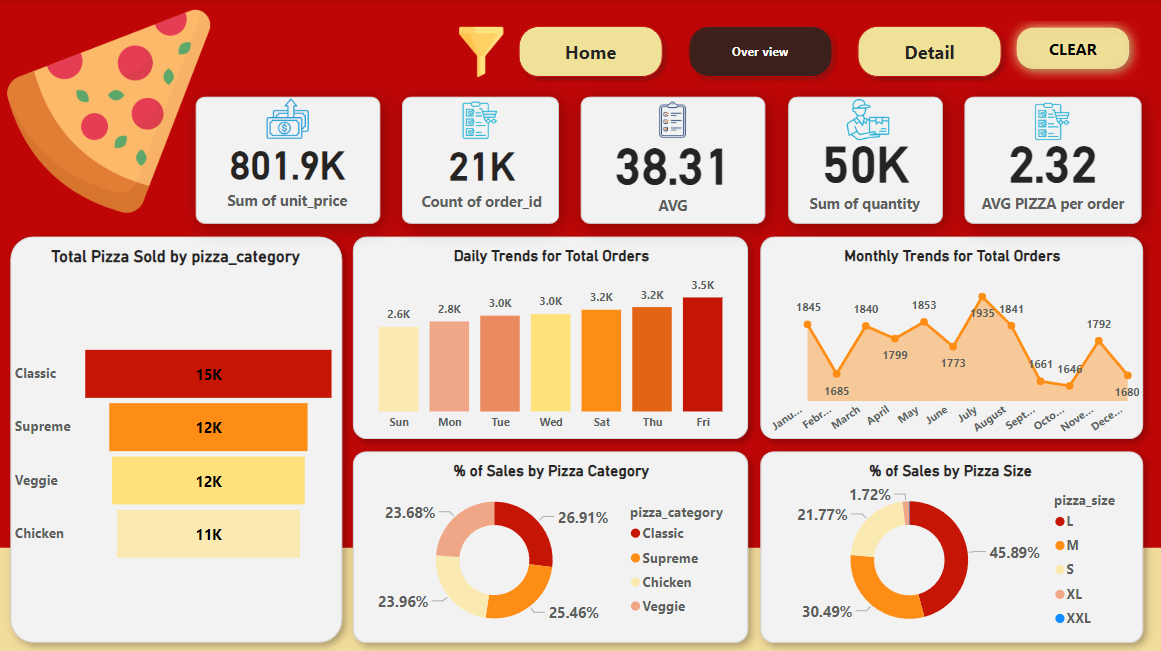

What the dashboard file says about the page in this screenshot:
{"tool":"powerbi","page":{"name":"Over view","canvas":[1280,720],"ordinal":1},"visuals":[{"type":"shape","box":[192.1,82.3,252.5,189.4],"z":0,"group":"g2"},{"type":"shape","box":[418.5,82.3,222.3,189.4],"z":0,"group":"g1"},{"type":"shape","box":[614.7,82.3,252.5,189.4],"z":0,"group":"g8"},{"type":"shape","box":[1036,82.3,244.3,189.4],"z":0,"group":"g9"},{"type":"shape","box":[0,189.4,1280.3,531],"z":0},{"type":"shape","box":[0,246.8,391.5,473.2],"z":0,"group":"g3"},{"type":"shape","box":[376,247,461.1,249.7],"z":0,"group":"g4"},{"type":"shape","box":[823.3,247,447.3,249.7],"z":0,"group":"g5"},{"type":"shape","box":[376,483,461.1,237.4],"z":0,"group":"g6"},{"type":"shape","box":[823.3,483,447.3,237.4],"z":0,"group":"g7"},{"type":"shape","box":[0,0,1280.3,602.4],"z":1000},{"type":"pageNavigator","box":[563,20,549.8,74.9],"z":1000,"group":"g2"},{"type":"image","box":[715.3,102.7,51.4,58.7],"z":1000,"group":"g8"},{"type":"image","box":[502.6,106.3,53.8,52.6],"z":1000,"group":"g1"},{"type":"image","box":[1131.1,108.8,53.8,52.6],"z":1000,"group":"g9"},{"type":"funnel","title":"Total Pizza Sold by pizza_category","fields":{"Category":["pizza_sales.pizza_category"],"Y":["Sum(pizza_sales.quantity)"]},"box":[13.7,271.5,362.6,433.4],"z":1000,"group":"g3"},{"type":"columnChart","title":"Daily Trends for Total Orders","fields":{"Category":["pizza_sales.Order_day"],"Y":["Count(pizza_sales.order_id)"]},"box":[391.6,271.7,432.8,211.3],"z":1000,"group":"g4"},{"type":"lineChart","title":"Monthly Trends for Total Orders","fields":{"Category":["pizza_sales.order_date.Variation.Date Hierarchy.Month"],"Y":["Count(pizza_sales.order_id)"]},"box":[837,271.7,421.3,216.8],"z":1000,"group":"g5"},{"type":"donutChart","title":"% of Sales by Pizza Category","fields":{"Category":["pizza_sales.pizza_category"],"Y":["Sum(pizza_sales.total_price)"]},"box":[391.6,507.7,432.8,197.6],"z":1000,"group":"g6"},{"type":"donutChart","title":"% of Sales by Pizza Size","fields":{"Y":["Sum(pizza_sales.total_price)"],"Category":["pizza_sales.pizza_size"]},"box":[837,507.7,417.2,197.6],"z":1000,"group":"g7"},{"type":"shape","box":[842.5,82.3,219.6,189.4],"z":2000},{"type":"card","fields":{"Values":["pizza_sales.Measure"]},"box":[1062.1,124.8,192.1,122.1],"z":2000,"group":"g9"},{"type":"card","fields":{"Values":["Sum(pizza_sales.unit_price)"]},"box":[216.8,131.7,201.7,115.3],"z":2000,"group":"g2"},{"type":"card","fields":{"Values":["pizza_sales.AVG"]},"box":[639.4,131.7,203.1,112.5],"z":2000,"group":"g8"},{"type":"card","fields":{"Values":["Count(pizza_sales.order_id)"]},"box":[444.6,144,172.9,91.9],"z":2000,"group":"g1"},{"type":"image","box":[0,0,243.4,246.8],"z":3000},{"type":"group","id":"g1","title":"Group 8","box":[192.1,20,920.7,251.7],"z":3000,"group":"g8"},{"type":"group","id":"g2","title":"Group 7","box":[192.1,20,920.7,251.7],"z":3000,"group":"g1"},{"type":"image","box":[287.4,100.2,62.4,62.4],"z":3000,"group":"g2"},{"type":"image","box":[926.9,102.7,57.5,59.9],"z":4000},{"type":"card","fields":{"Values":["Sum(pizza_sales.quantity)"]},"box":[867.2,124.9,168.8,122.1],"z":5000},{"type":"group","id":"g3","title":"Group 2","box":[0,246.8,391.5,473.2],"z":6000},{"type":"group","id":"g4","title":"Group 3","box":[376,247,461.1,249.7],"z":7000},{"type":"group","id":"g5","title":"Group 4","box":[823.3,247,447.3,249.7],"z":8000},{"type":"group","id":"g6","title":"Group 5","box":[376,483,461.1,237.4],"z":9000},{"type":"group","id":"g7","title":"Group 6","box":[823.3,483,447.3,237.4],"z":10000},{"type":"group","id":"g8","title":"Group 9","box":[192.1,20,920.7,251.7],"z":11000},{"type":"group","id":"g9","title":"Group 11","box":[1036,82.3,244.3,189.4],"z":12000},{"type":"image","box":[498.7,23.8,64.7,69.8],"z":14000},{"type":"actionButton","box":[1106.4,18.7,148.1,69.8],"z":15000}]}

Visuals, with their boxes in screenshot pixels (x1, y1, x2, y2), scaled from the page's 1280x720 canvas onto the 1161x651 screenshot:
shape: [x1=174, y1=74, x2=403, y2=246]
shape: [x1=380, y1=74, x2=581, y2=246]
shape: [x1=558, y1=74, x2=787, y2=246]
shape: [x1=940, y1=74, x2=1160, y2=246]
shape: [x1=0, y1=171, x2=1160, y2=650]
shape: [x1=0, y1=223, x2=355, y2=650]
shape: [x1=341, y1=223, x2=759, y2=449]
shape: [x1=747, y1=223, x2=1152, y2=449]
shape: [x1=341, y1=437, x2=759, y2=650]
shape: [x1=747, y1=437, x2=1152, y2=650]
shape: [x1=0, y1=0, x2=1160, y2=545]
pageNavigator: [x1=511, y1=18, x2=1009, y2=86]
image: [x1=649, y1=93, x2=695, y2=146]
image: [x1=456, y1=96, x2=505, y2=144]
image: [x1=1026, y1=98, x2=1075, y2=146]
"Total Pizza Sold by pizza_category" funnel: [x1=12, y1=245, x2=341, y2=637]
"Daily Trends for Total Orders" columnChart: [x1=355, y1=246, x2=748, y2=437]
"Monthly Trends for Total Orders" lineChart: [x1=759, y1=246, x2=1141, y2=442]
"% of Sales by Pizza Category" donutChart: [x1=355, y1=459, x2=748, y2=638]
"% of Sales by Pizza Size" donutChart: [x1=759, y1=459, x2=1138, y2=638]
shape: [x1=764, y1=74, x2=963, y2=246]
card - pizza_sales.Measure: [x1=963, y1=113, x2=1138, y2=223]
card - Sum(pizza_sales.unit_price): [x1=197, y1=119, x2=380, y2=223]
card - pizza_sales.AVG: [x1=580, y1=119, x2=764, y2=221]
card - Count(pizza_sales.order_id): [x1=403, y1=130, x2=560, y2=213]
image: [x1=0, y1=0, x2=221, y2=223]
"Group 8" group: [x1=174, y1=18, x2=1009, y2=246]
"Group 7" group: [x1=174, y1=18, x2=1009, y2=246]
image: [x1=261, y1=91, x2=317, y2=147]
image: [x1=841, y1=93, x2=893, y2=147]
card - Sum(pizza_sales.quantity): [x1=787, y1=113, x2=940, y2=223]
"Group 2" group: [x1=0, y1=223, x2=355, y2=650]
"Group 3" group: [x1=341, y1=223, x2=759, y2=449]
"Group 4" group: [x1=747, y1=223, x2=1152, y2=449]
"Group 5" group: [x1=341, y1=437, x2=759, y2=650]
"Group 6" group: [x1=747, y1=437, x2=1152, y2=650]
"Group 9" group: [x1=174, y1=18, x2=1009, y2=246]
"Group 11" group: [x1=940, y1=74, x2=1160, y2=246]
image: [x1=452, y1=22, x2=511, y2=85]
actionButton: [x1=1004, y1=17, x2=1138, y2=80]
